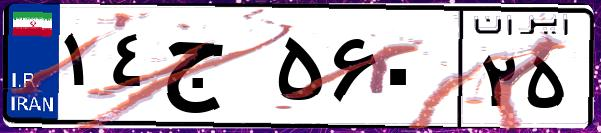0: (385, 28, 445, 110)
1: (57, 26, 110, 100)
2: (475, 38, 525, 113)
4: (110, 28, 158, 98)
5: (270, 28, 330, 110), (525, 38, 570, 115)
6: (330, 28, 385, 110)
ج: (158, 20, 270, 120)
